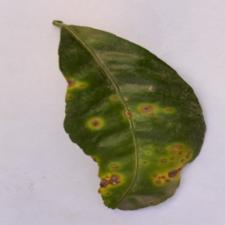Canker: (44, 49, 188, 201)
